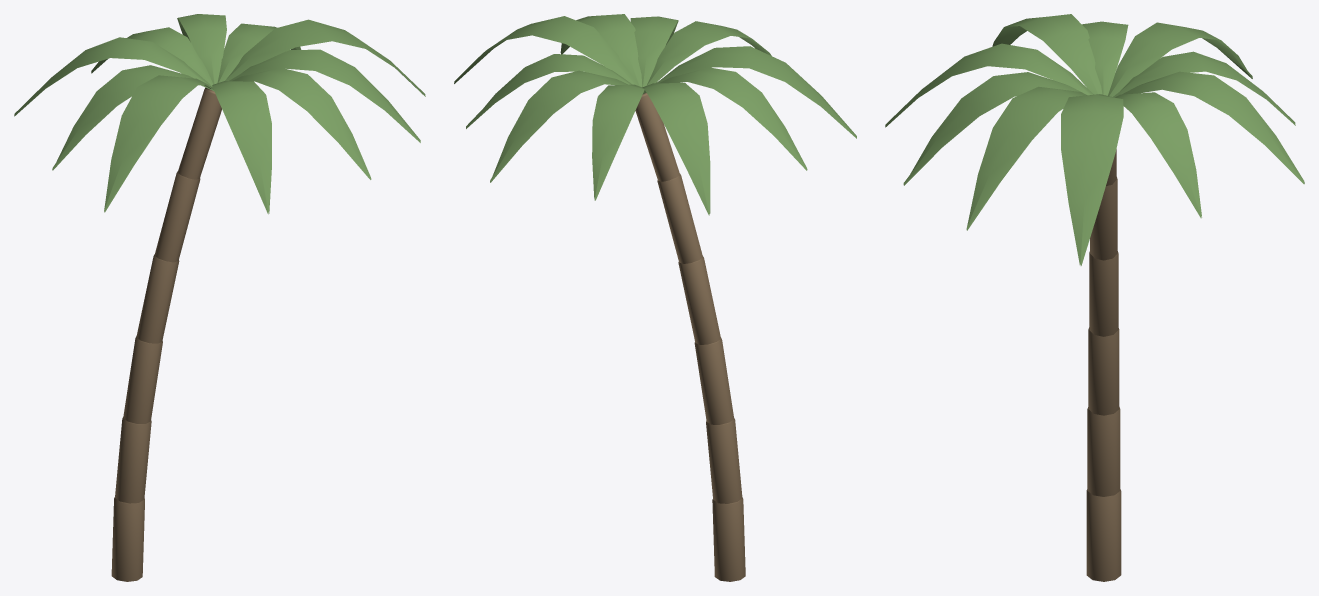
File: palm_tree_variant_02.glb
3 renders of one model, left to right at view 1: azimuth 30°, elevation 25°; view 2: azimuth 150°, elevation 25°; view 3: azimuth 270°, elevation 25°, orthographic. The views are drawn at different scales.
Parts seen in each view (by area): view 1: static_leaf_oak, static_wood; view 2: static_leaf_oak, static_wood; view 3: static_leaf_oak, static_wood.
Part boxes in pixels (x1,y1,x2,y2): static_leaf_oak: (14,14,425,214); static_wood: (111,87,221,581); static_leaf_oak: (454,14,856,215); static_wood: (635,93,745,581); static_leaf_oak: (885,14,1304,265); static_wood: (1086,149,1121,581).
Bounding box in the file's own units: 4.79 × 6.37 × 4.29.
